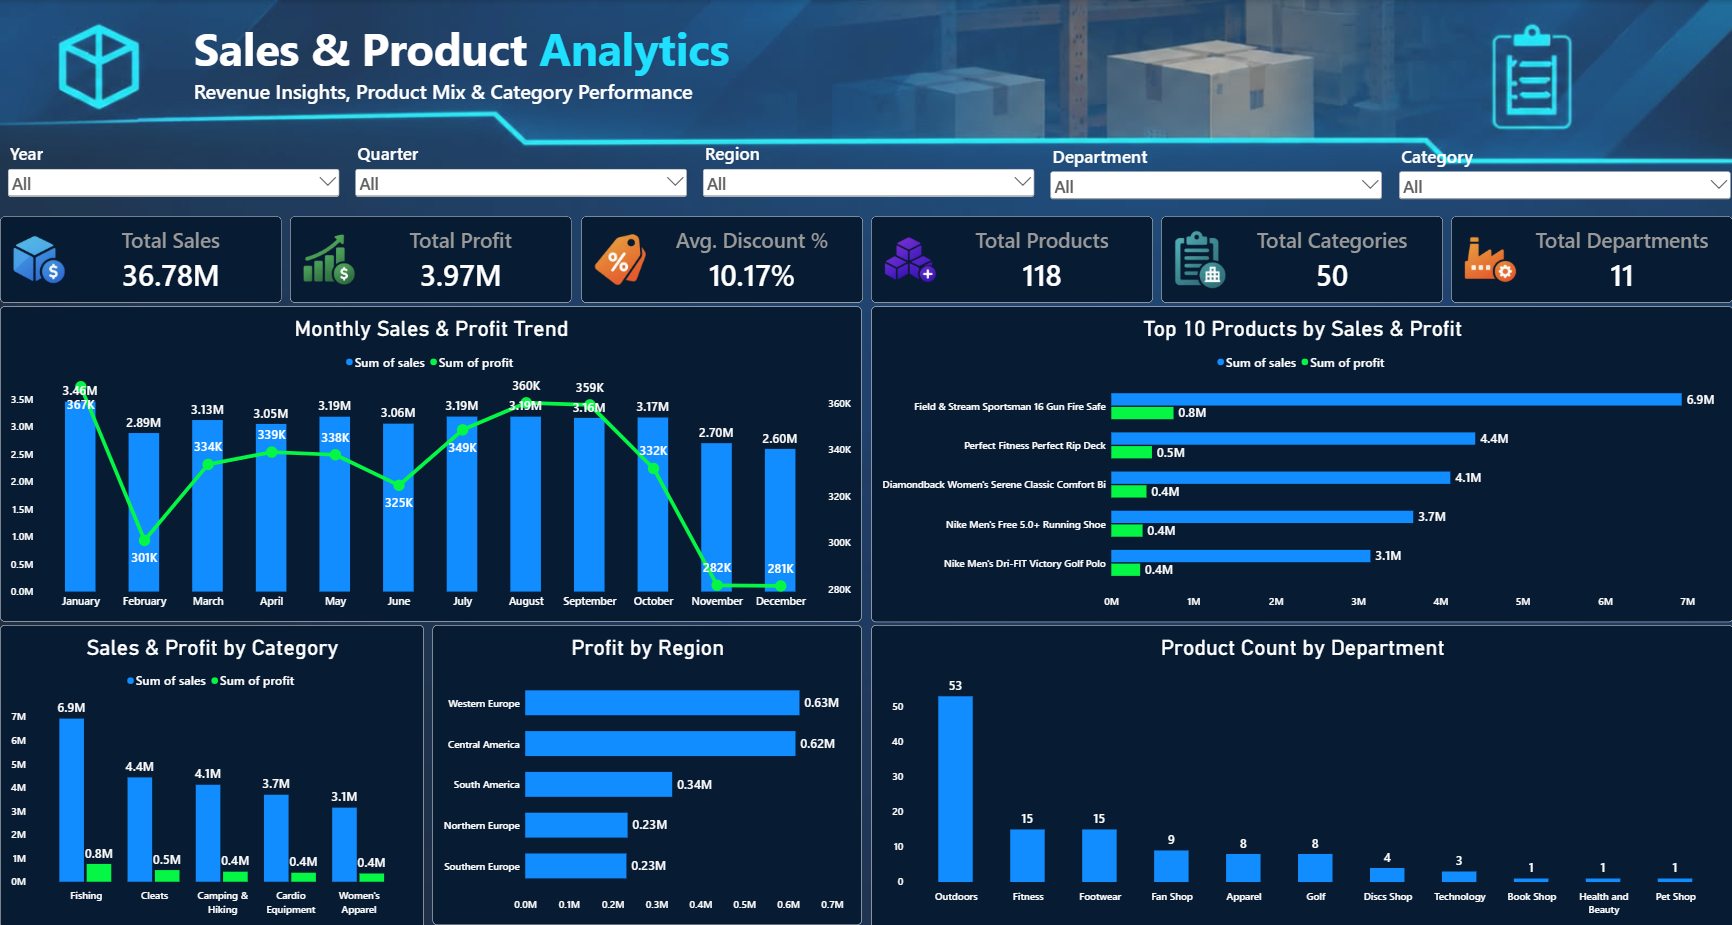

The page's visual inventory and layout, read from the dashboard file:
{"tool":"powerbi","page":{"name":"Page 3","canvas":[2800,1500],"ordinal":2},"visuals":[{"type":"cardVisual","fields":{"Data":["Sum(gold fact_order_items.sales)"]},"box":[0,348.5,455,140],"z":0},{"type":"cardVisual","fields":{"Data":["Sum(gold fact_order_items.profit)"]},"box":[469,348.5,455,140],"z":1000},{"type":"cardVisual","fields":{"Data":["Count(gold fact_order_items.product_name)"]},"box":[1407.1,348.5,455,140],"z":2000},{"type":"cardVisual","fields":{"Data":["Count(gold fact_order_items.category_name)"]},"box":[1876.2,348.5,455,140],"z":3000},{"type":"cardVisual","fields":{"Data":["Avg(gold fact_order_items.discount_percent)"]},"box":[938.1,348.5,455,140],"z":4000},{"type":"cardVisual","fields":{"Data":["Count(gold fact_order_items.department_name)"]},"box":[2345,348.5,455,140],"z":5000},{"type":"clusteredColumnChart","title":"Sales & Profit by Category","fields":{"Y":["Sum(gold fact_order_items.sales)","Sum(gold fact_order_items.profit)"],"Category":["gold fact_order_items.category_name"]},"box":[0,1010.6,685,489.6],"z":6000},{"type":"clusteredBarChart","title":"Top 10 Products by Sales & Profit","fields":{"Category":["gold fact_order_items.product_name"],"Y":["Sum(gold fact_order_items.sales)","Sum(gold fact_order_items.profit)"]},"box":[1407.5,495,1392.5,510],"z":7000},{"type":"barChart","title":"Profit by Region","fields":{"Y":["Sum(gold fact_order_items.profit)"],"Category":["gold fact_order_items.region"]},"box":[698.4,1010.6,693.9,485.1],"z":8000},{"type":"slicer","fields":{"Values":["gold fact_order_items.calendar_date.Variation.Date Hierarchy.Year"]},"box":[8,228,545,115],"z":9000},{"type":"slicer","fields":{"Values":["gold fact_order_items.calendar_date.Variation.Date Hierarchy.Quarter"]},"box":[569.8,228,545,115],"z":10000},{"type":"slicer","fields":{"Values":["gold fact_order_items.region"]},"box":[1131.5,227.5,545,115],"z":11000},{"type":"slicer","fields":{"Values":["gold fact_order_items.department_name"]},"box":[1693.3,232.5,545,115],"z":12000},{"type":"slicer","fields":{"Values":["gold fact_order_items.category_name"]},"box":[2255,232.5,545,115],"z":13000},{"type":"lineClusteredColumnComboChart","title":"Monthly Sales & Profit Trend","fields":{"Category":["gold fact_order_items.calendar_date.Variation.Date Hierarchy.Month"],"Y":["Sum(gold fact_order_items.sales)"],"Y2":["Sum(gold fact_order_items.profit)"]},"box":[0,494.1,1392.4,509.8],"z":14000},{"type":"columnChart","title":"Product Count by Department","fields":{"Category":["gold fact_order_items.department_name"],"Y":["Count(gold fact_order_items.product_name)"]},"box":[1407.5,1010,1392.5,490],"z":15000},{"type":"textbox","box":[312.5,27.5,897.5,97.5],"z":16000},{"type":"textbox","box":[312.5,125,812.5,52.5],"z":17000}]}

Visuals, with their boxes in screenshot pixels (x1, y1, x2, y2), scaled from the page's 2800x1500 canvas onto the 1732x925 screenshot:
cardVisual - Sum(gold fact_order_items.sales): box(0, 215, 281, 301)
cardVisual - Sum(gold fact_order_items.profit): box(290, 215, 572, 301)
cardVisual - Count(gold fact_order_items.product_name): box(870, 215, 1152, 301)
cardVisual - Count(gold fact_order_items.category_name): box(1161, 215, 1442, 301)
cardVisual - Avg(gold fact_order_items.discount_percent): box(580, 215, 862, 301)
cardVisual - Count(gold fact_order_items.department_name): box(1451, 215, 1731, 301)
"Sales & Profit by Category" clusteredColumnChart: box(0, 623, 424, 924)
"Top 10 Products by Sales & Profit" clusteredBarChart: box(871, 305, 1731, 620)
"Profit by Region" barChart: box(432, 623, 861, 922)
slicer - gold fact_order_items.calendar_date.Variation.Date Hierarchy.Year: box(5, 141, 342, 212)
slicer - gold fact_order_items.calendar_date.Variation.Date Hierarchy.Quarter: box(352, 141, 690, 212)
slicer - gold fact_order_items.region: box(700, 140, 1037, 211)
slicer - gold fact_order_items.department_name: box(1047, 143, 1385, 214)
slicer - gold fact_order_items.category_name: box(1395, 143, 1731, 214)
"Monthly Sales & Profit Trend" lineClusteredColumnComboChart: box(0, 305, 861, 619)
"Product Count by Department" columnChart: box(871, 623, 1731, 924)
textbox: box(193, 17, 748, 77)
textbox: box(193, 77, 696, 109)
